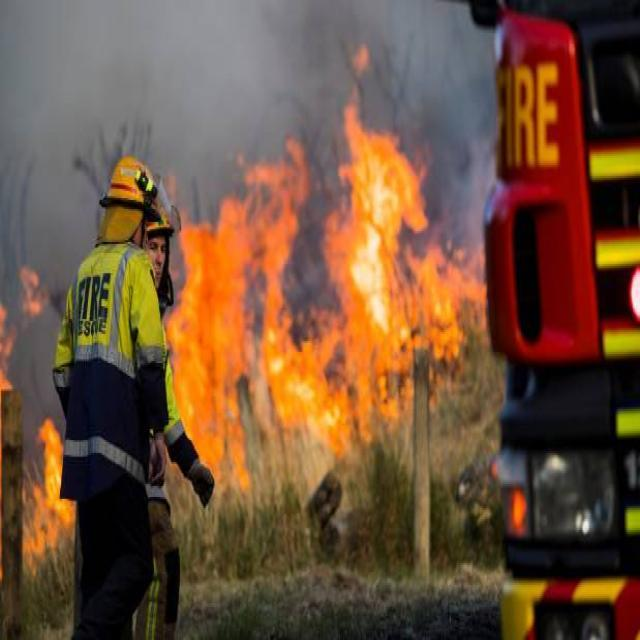Fire: (153, 127, 364, 499), (311, 68, 495, 442), (15, 408, 81, 586), (0, 252, 60, 408)
